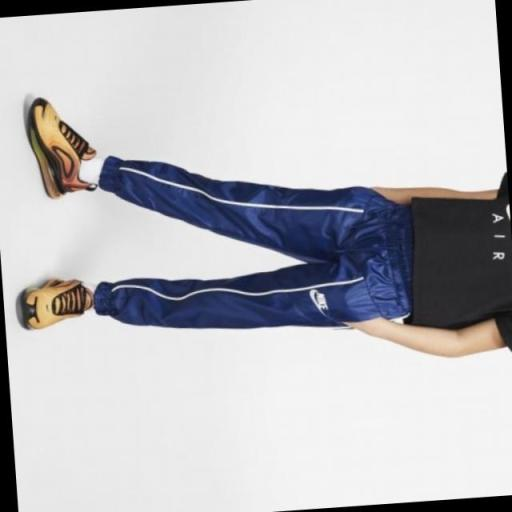Nike: (308, 286, 318, 316), (314, 292, 328, 312)
